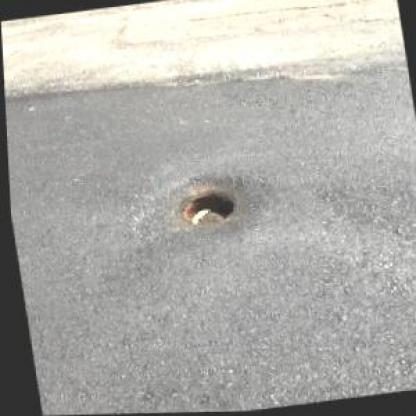pothole: (172, 187, 241, 230)
